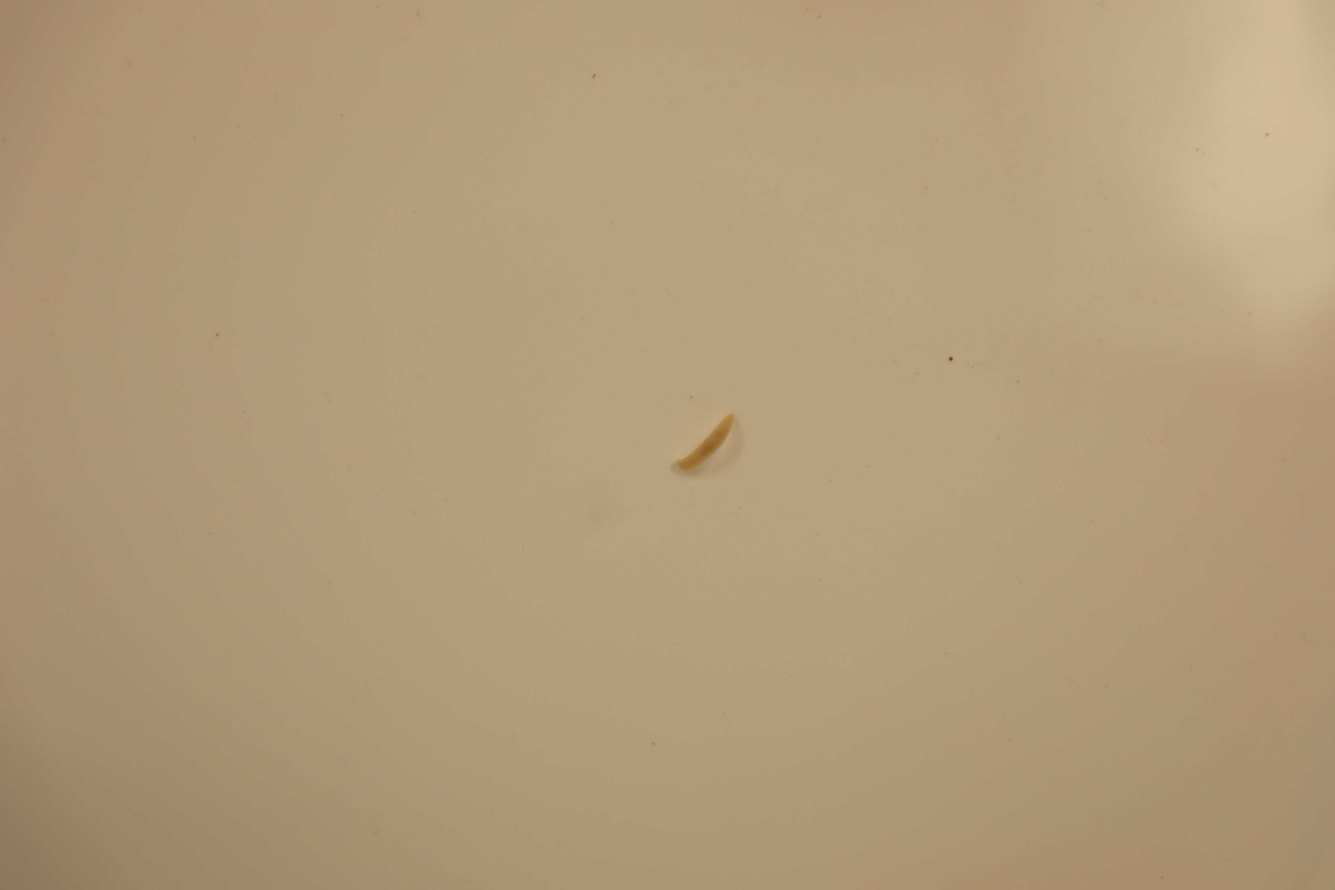Cadisfly: (672, 415, 734, 475)
